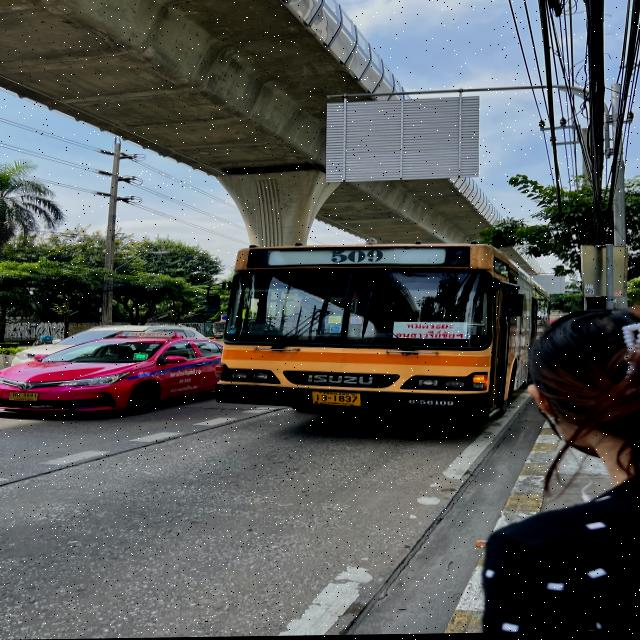BMTA-bus: (217, 243, 544, 425)
Bus-Line-Number: (325, 249, 389, 265)
Destination-Sign-Extra-Bus: (392, 322, 466, 342)
